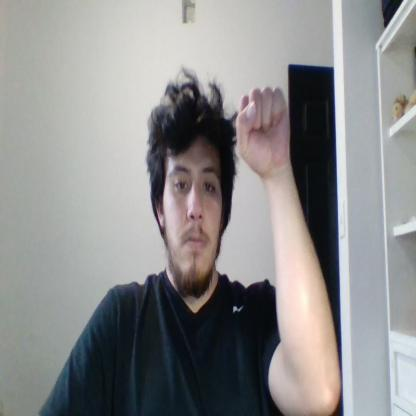S: (236, 85, 290, 175)
